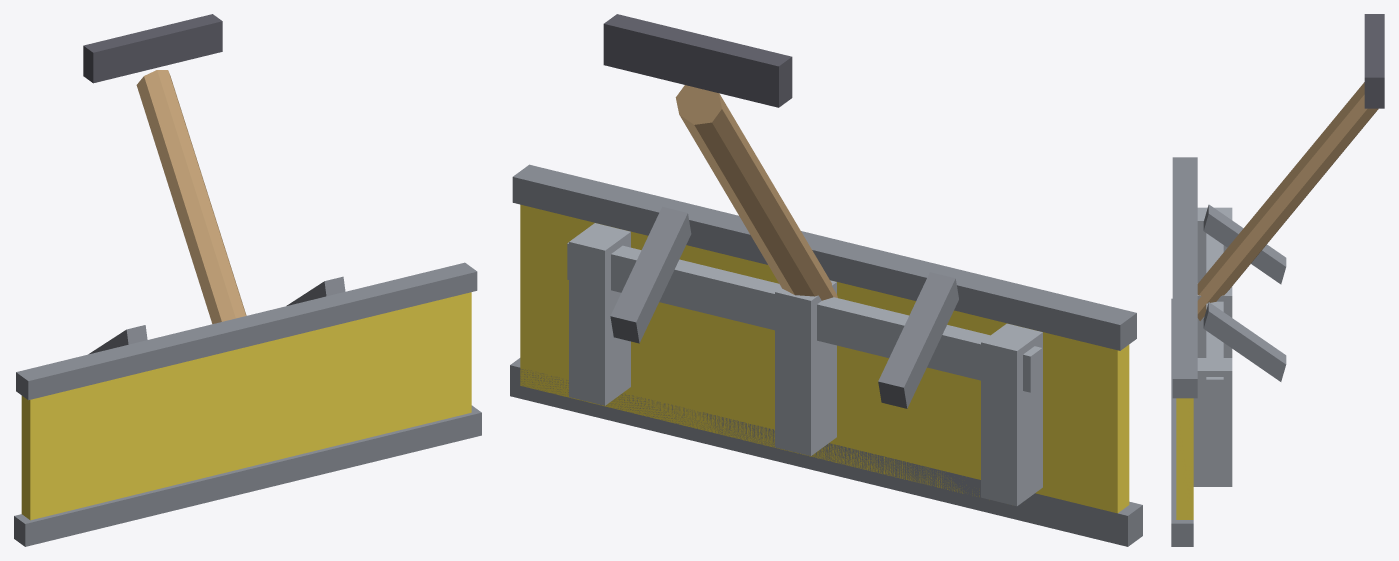
Rendered from pusher.glb.
The picture shows the model from 3 angles, left to right: view 1: azimuth 30°, elevation 25°; view 2: azimuth 150°, elevation 25°; view 3: azimuth 270°, elevation 25°; orthographic projection. The views are drawn at different scales.
Visible parts, largest first — view 1: pusher; view 2: pusher; view 3: pusher.
Part boxes in pixels (x1,y1,x2,y2): pusher: (14, 14, 481, 546); pusher: (510, 14, 1142, 546); pusher: (1171, 14, 1384, 546).
Size of the model in its own units: 1.25 by 1 by 0.5.
